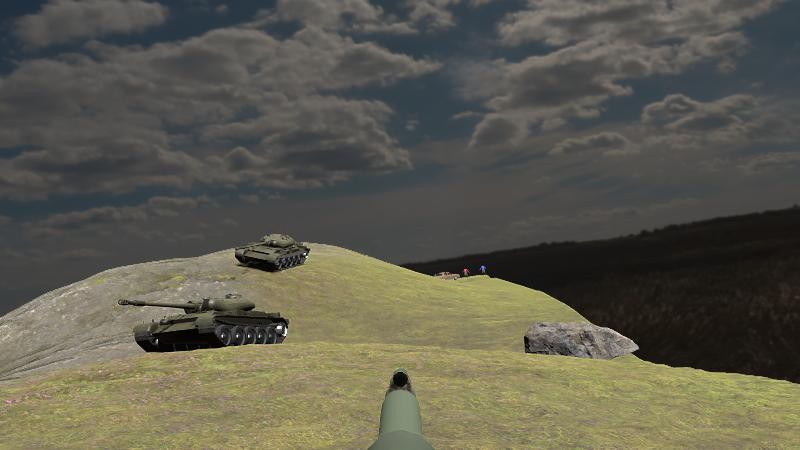Tank: (117, 292, 291, 354), (234, 232, 310, 273)
